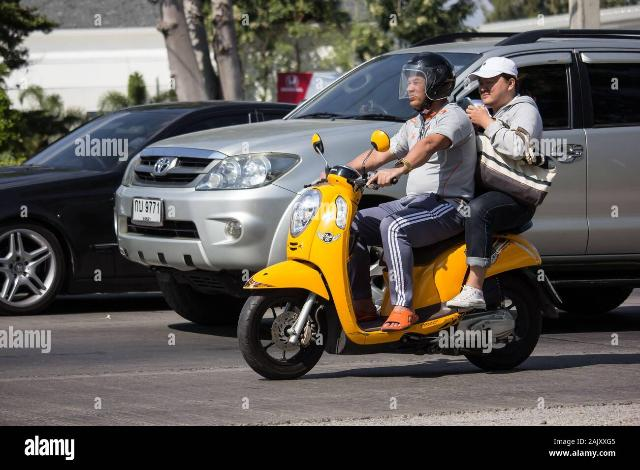helm: (400, 53, 456, 111)
motor: (237, 167, 563, 382)
non-helm: (468, 57, 519, 107)
